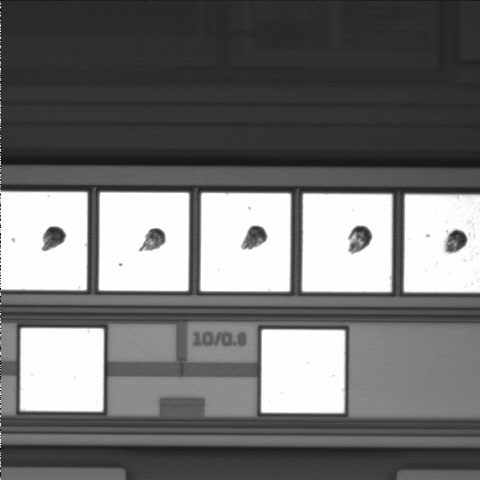pad: (200, 193, 291, 291), (99, 192, 189, 291), (302, 194, 392, 292), (20, 328, 104, 411), (261, 330, 345, 413)
